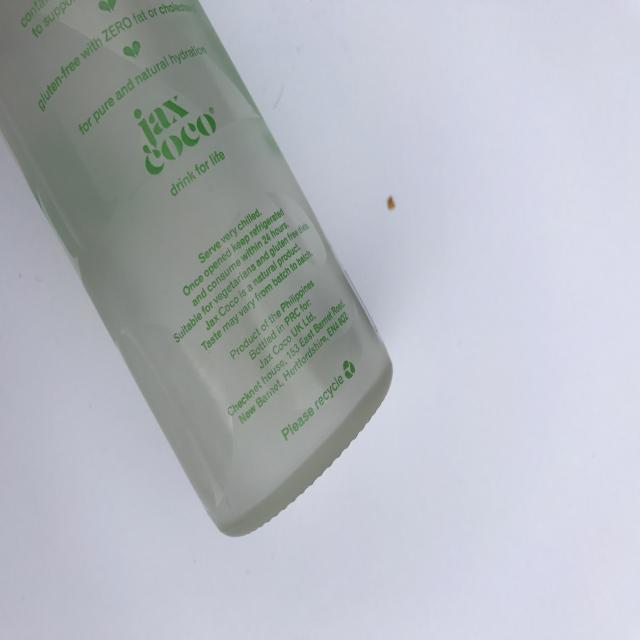glass: (1, 0, 394, 538)
